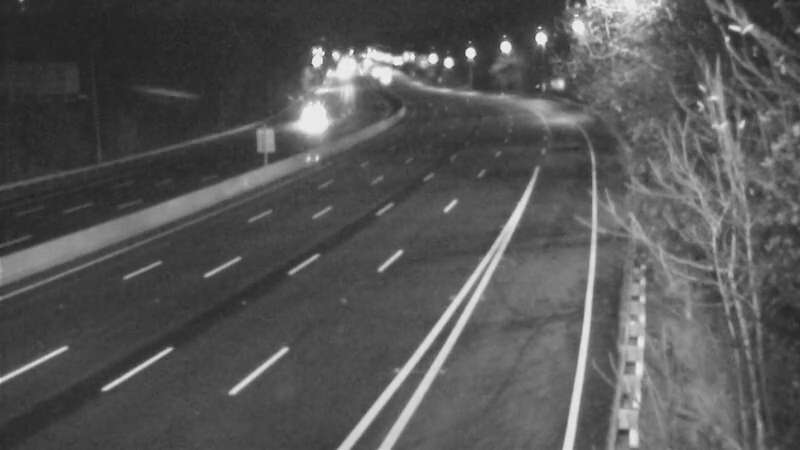vehicle: (357, 55, 407, 105), (285, 98, 335, 148)
